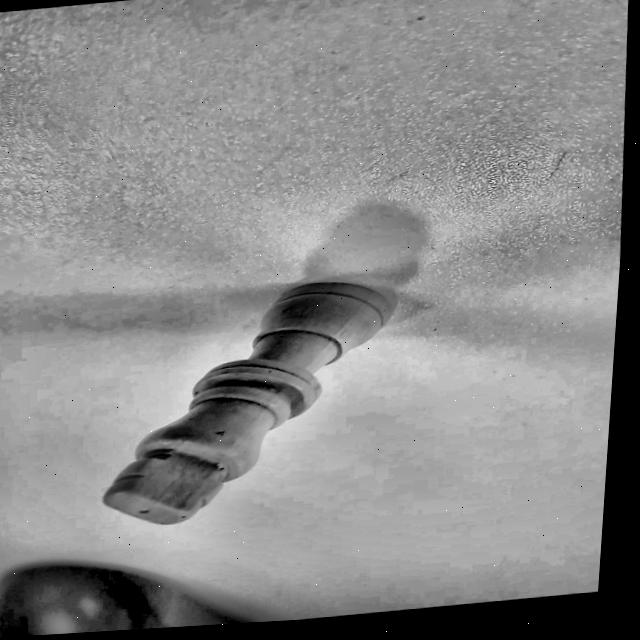white-king: (22, 223, 469, 560)
